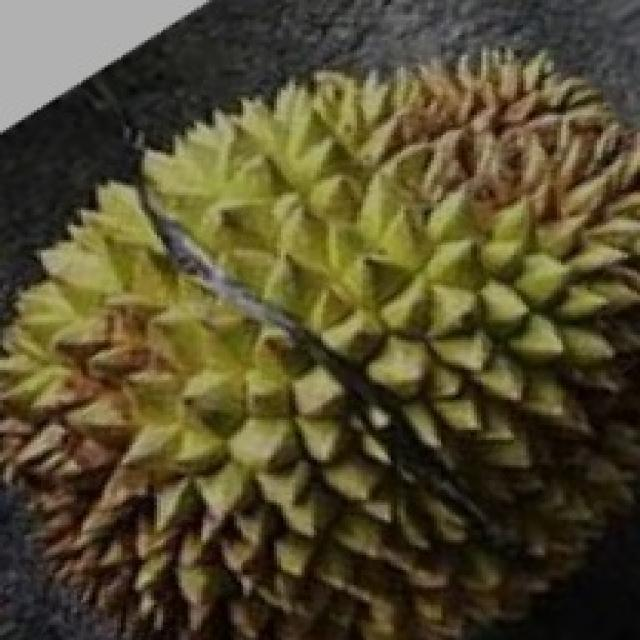fruit: (0, 135, 348, 640), (277, 255, 640, 640)
